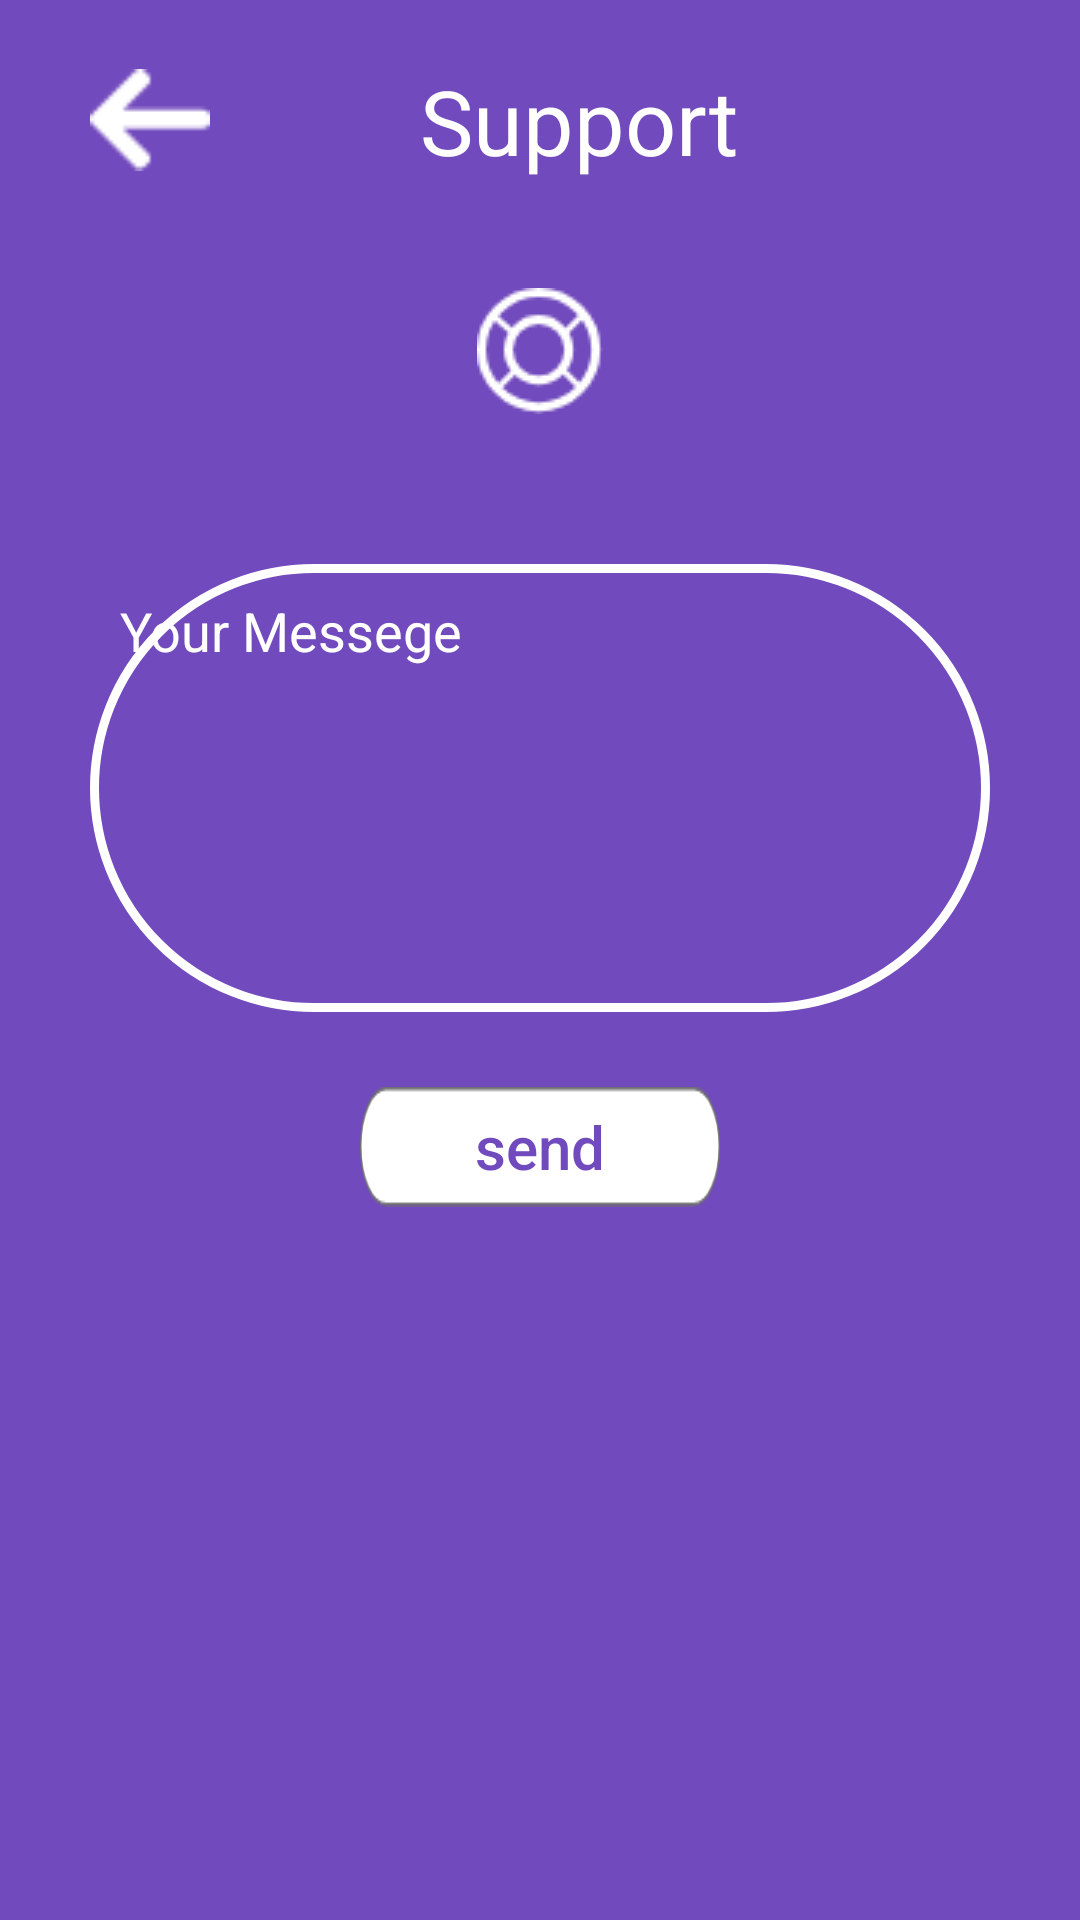

Screen size 1080x1920. Icon name, then its box in pixels as (x1, y1, x2, y2):
back: (90, 69, 210, 171)
